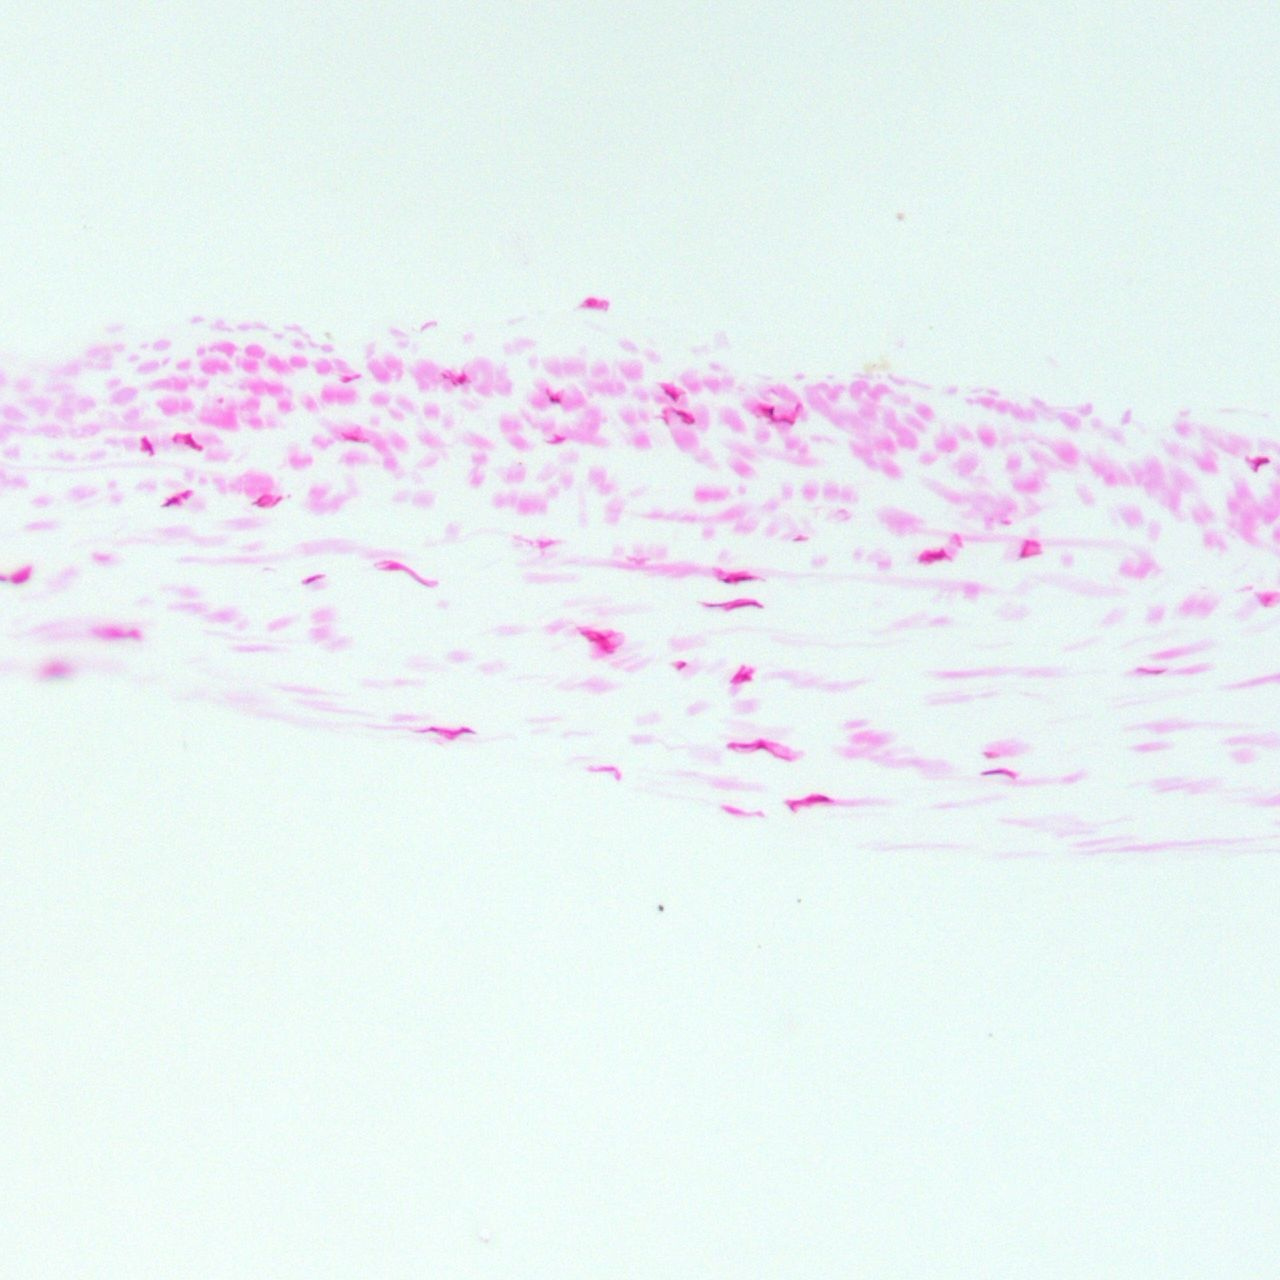dust: (896, 213, 904, 222), (658, 904, 663, 911), (797, 898, 801, 903)
nucleus-FG: (787, 789, 829, 813), (416, 726, 476, 738), (583, 628, 614, 651), (702, 600, 760, 611), (727, 740, 772, 753), (182, 433, 202, 451), (1251, 456, 1269, 474), (302, 572, 324, 585), (139, 437, 156, 454), (720, 576, 757, 583), (926, 550, 946, 560), (161, 496, 181, 506), (734, 673, 754, 682), (1138, 668, 1163, 675), (979, 769, 1007, 775), (663, 390, 680, 400), (772, 417, 794, 424), (672, 409, 689, 417), (253, 496, 266, 506), (454, 374, 467, 384), (1019, 549, 1032, 558), (343, 435, 360, 442), (765, 406, 775, 417), (675, 661, 686, 670), (549, 397, 561, 403)
